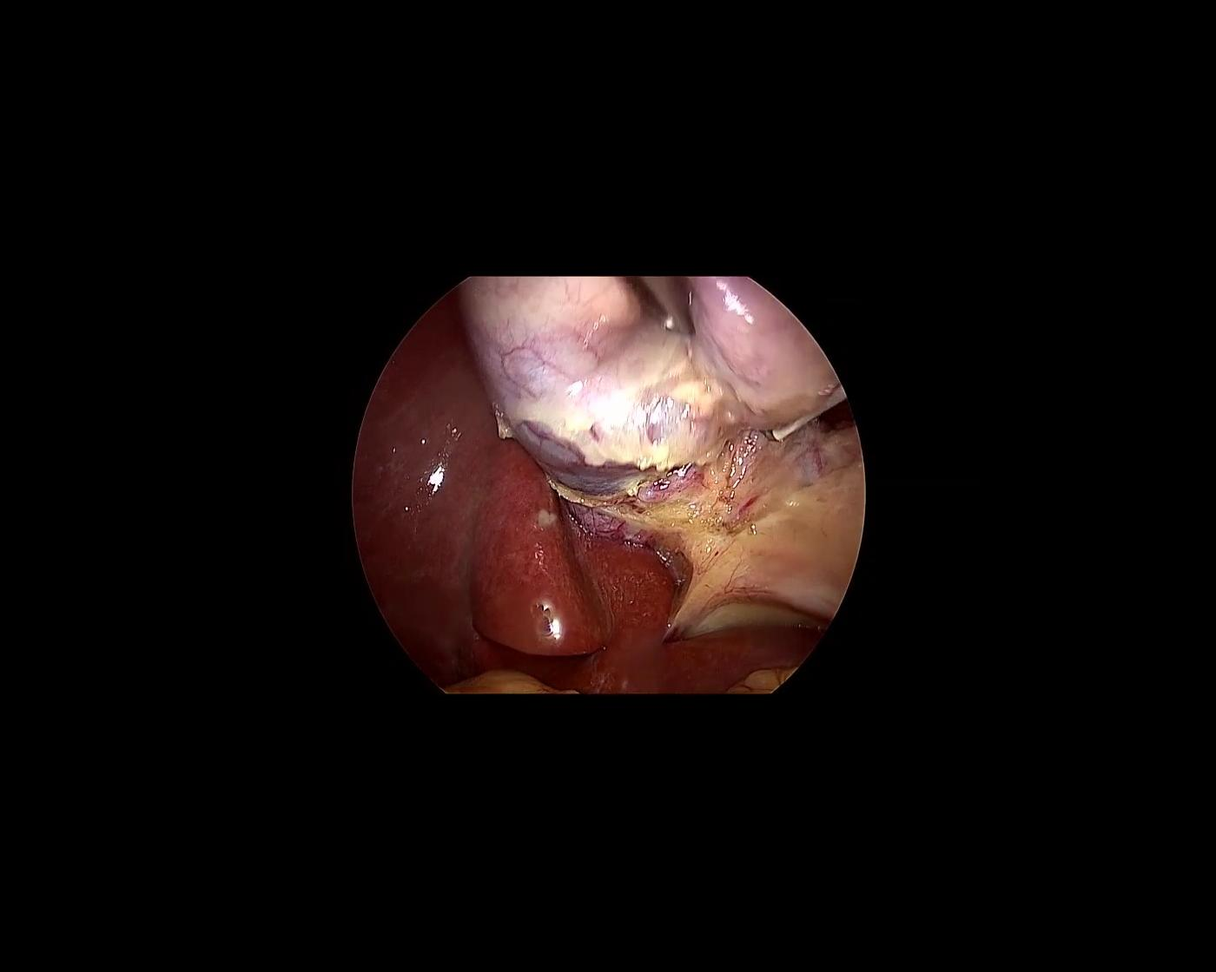Gallbladder: (469, 260, 849, 509)
Liver: (250, 288, 811, 853)
